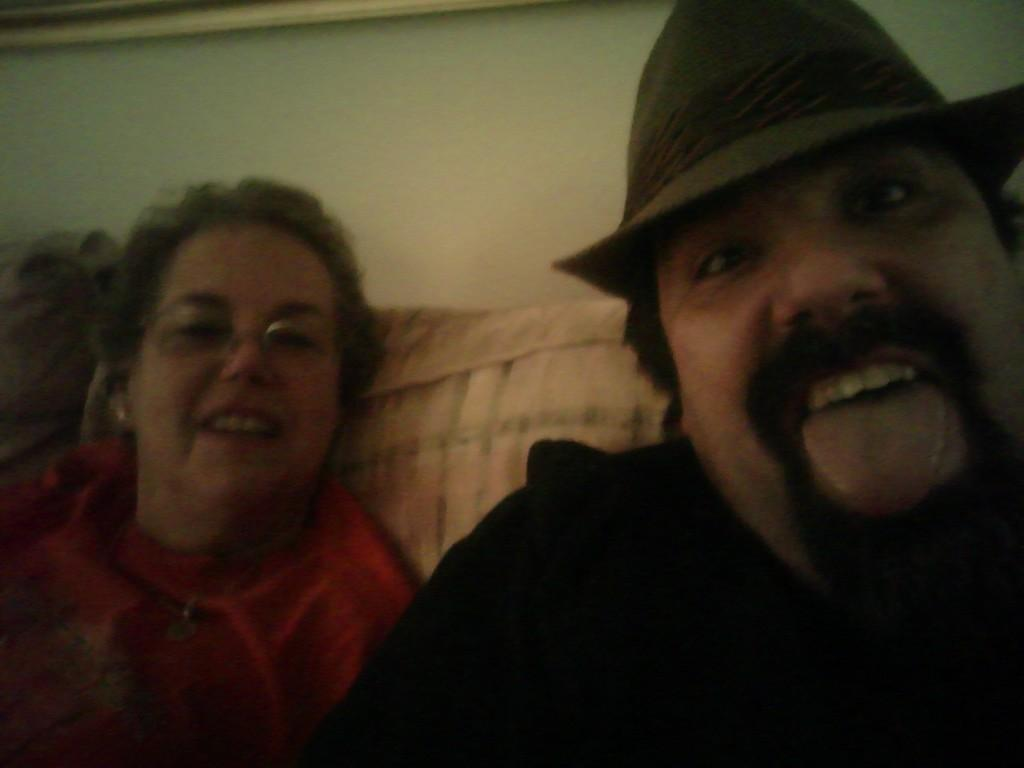Hat: (552, 0, 1022, 300)
